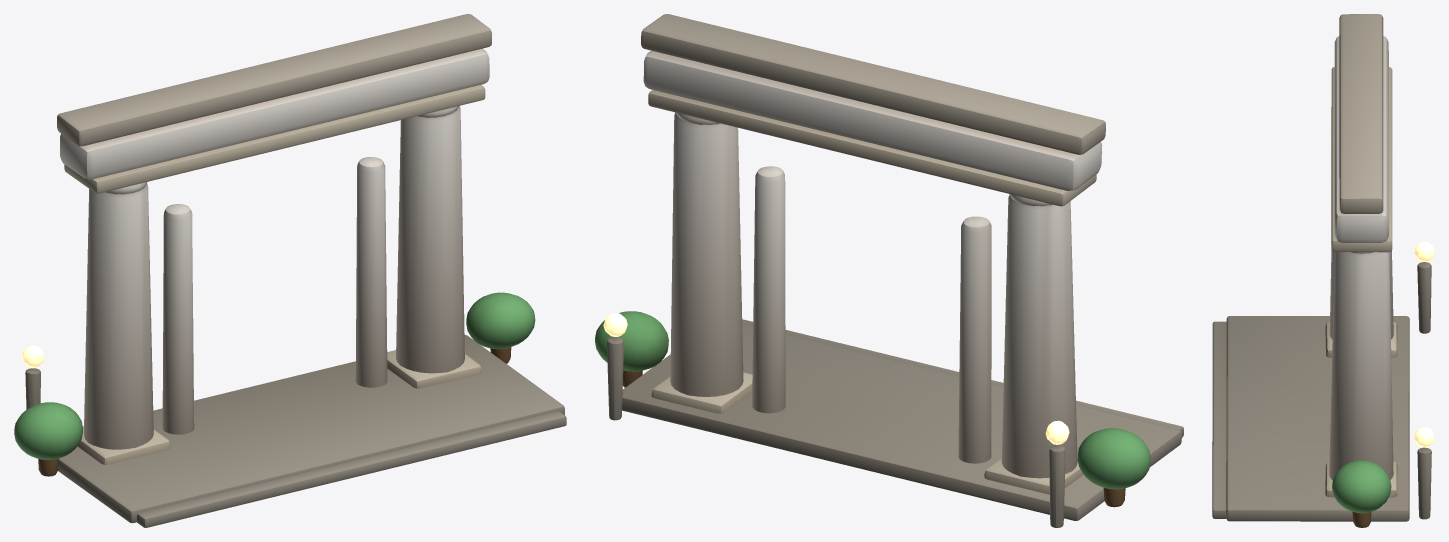
3 renders of one model, left to right at view 1: azimuth 30°, elevation 25°; view 2: azimuth 150°, elevation 25°; view 3: azimuth 270°, elevation 25°, orthographic. The views are drawn at different scales.
Visible parts, largest first — view 1: gate_743a9c8d; view 2: gate_743a9c8d; view 3: gate_743a9c8d.
Boxes of the visible parts, x1,y1,x2,y2 form: gate_743a9c8d: (14,14,566,527); gate_743a9c8d: (595,14,1183,527); gate_743a9c8d: (1212,14,1434,527).
Bounding box in the file's own units: 6.23 × 4.05 × 2.54.
